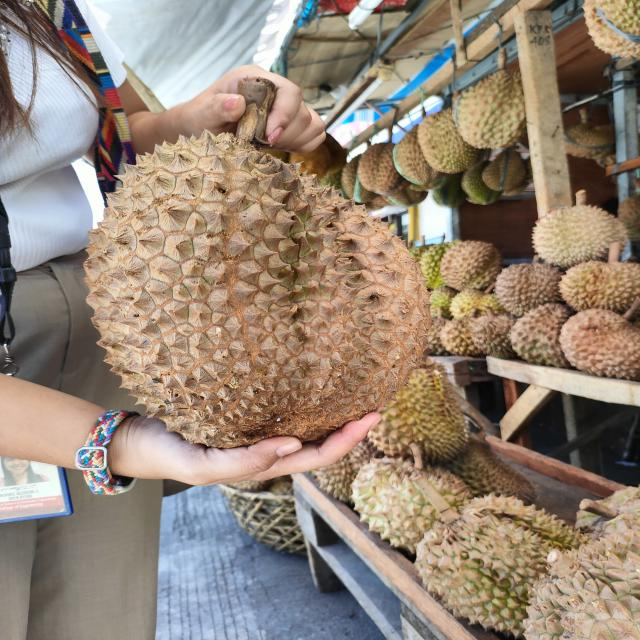mature: (85, 133, 438, 440)
